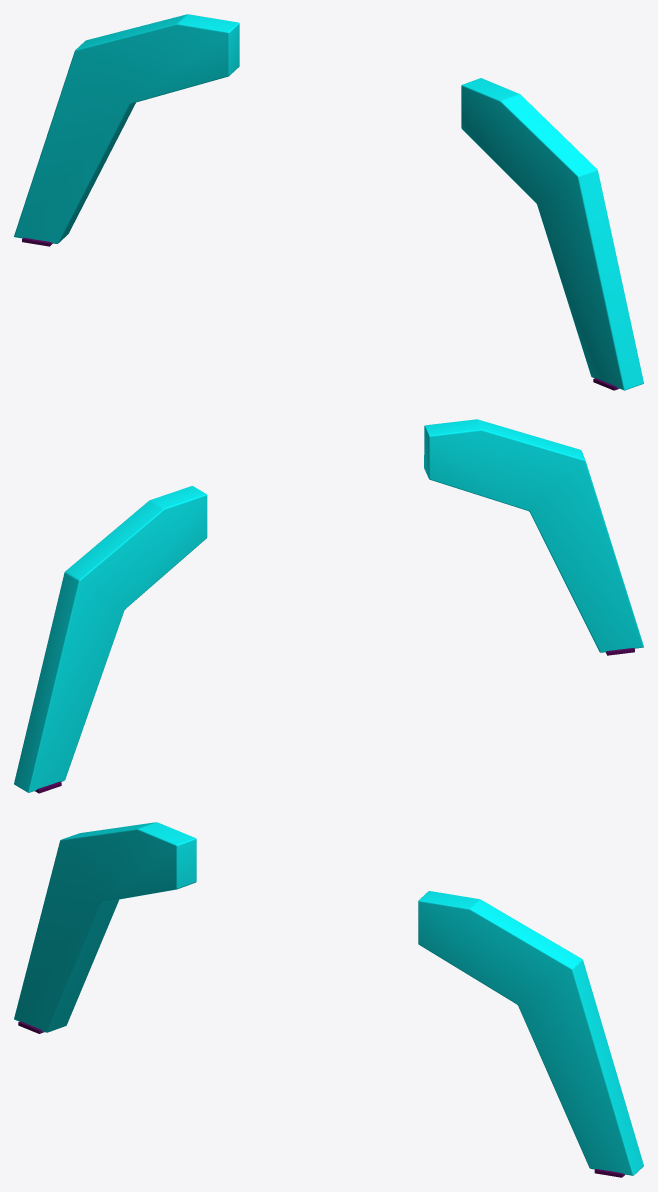
File: levante_leg_corner_middle.gltf
3 views of the same model, one above another, from view 1: azimuth 90°, elevation 25°; view 2: azimuth 150°, elevation 25°; view 3: azimuth 270°, elevation 25° (orthographic).
Visible parts, largest first — view 1: leg_corner_middle; view 2: leg_corner_middle; view 3: leg_corner_middle.
Boxes of the visible parts, bbox=[...] form: leg_corner_middle: bbox=[14, 14, 643, 390]; leg_corner_middle: bbox=[14, 419, 643, 793]; leg_corner_middle: bbox=[14, 822, 643, 1177].
Bounding box in the file's own units: 0.3417 × 0.2361 × 0.5566.
